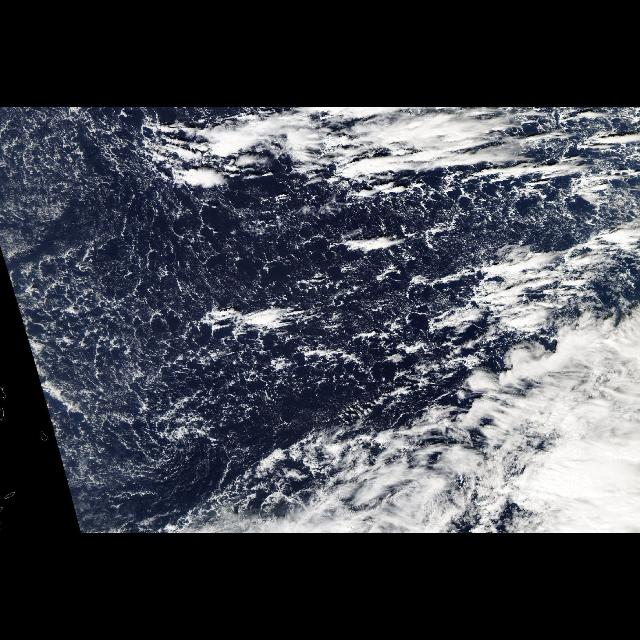Gravel: (1, 109, 514, 482)
